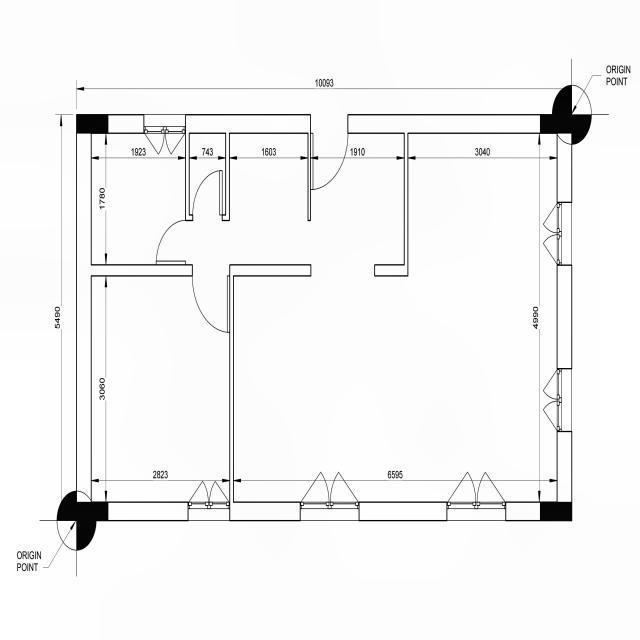Column: (538, 114, 572, 134), (539, 502, 573, 522), (76, 114, 108, 134), (76, 502, 109, 520)
Door: (310, 115, 350, 192), (192, 266, 230, 334), (190, 170, 223, 222), (156, 220, 193, 266)
Window: (446, 471, 506, 522), (300, 472, 360, 522), (540, 366, 573, 434), (539, 201, 573, 266), (144, 114, 186, 156), (187, 481, 230, 522)
